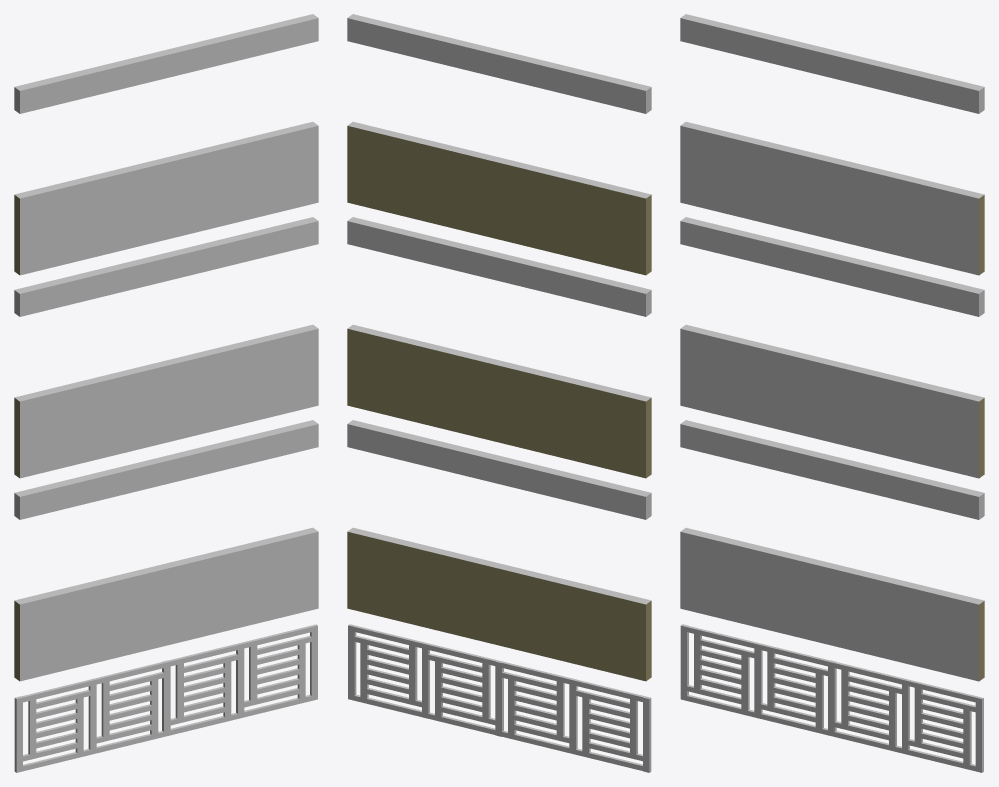
The model's file is bloque_delantero_2.obj.
3 renders of one model, left to right at view 1: azimuth 30°, elevation 25°; view 2: azimuth 150°, elevation 25°; view 3: azimuth 330°, elevation 25°, orthographic.
Parts seen in each view (by area): view 1: PISO4.002_Cube.002, PISO4.001_Cube.001, PISO4_Cube.007, VENTANAS_EXTERIOR_Cube.034; view 2: PISO4.002_Cube.002, PISO4_Cube.007, PISO4.001_Cube.001, VENTANAS_EXTERIOR_Cube.034; view 3: PISO4.002_Cube.002, PISO4.001_Cube.001, PISO4_Cube.007, VENTANAS_EXTERIOR_Cube.034.
Part boxes in pixels (left/top/right/bottom): PISO4.002_Cube.002: left=14, top=420, right=318, bottom=681; PISO4.001_Cube.001: left=14, top=217, right=318, bottom=478; PISO4_Cube.007: left=14, top=14, right=318, bottom=275; VENTANAS_EXTERIOR_Cube.034: left=14, top=624, right=317, bottom=772; PISO4.002_Cube.002: left=347, top=420, right=651, bottom=681; PISO4_Cube.007: left=347, top=14, right=651, bottom=275; PISO4.001_Cube.001: left=347, top=217, right=651, bottom=478; VENTANAS_EXTERIOR_Cube.034: left=348, top=624, right=651, bottom=772; PISO4.002_Cube.002: left=680, top=420, right=984, bottom=681; PISO4.001_Cube.001: left=680, top=217, right=984, bottom=478; PISO4_Cube.007: left=680, top=14, right=984, bottom=275; VENTANAS_EXTERIOR_Cube.034: left=680, top=624, right=983, bottom=772.
Bounding box in the file's own units: 8.55 × 18.51 × 0.275.
